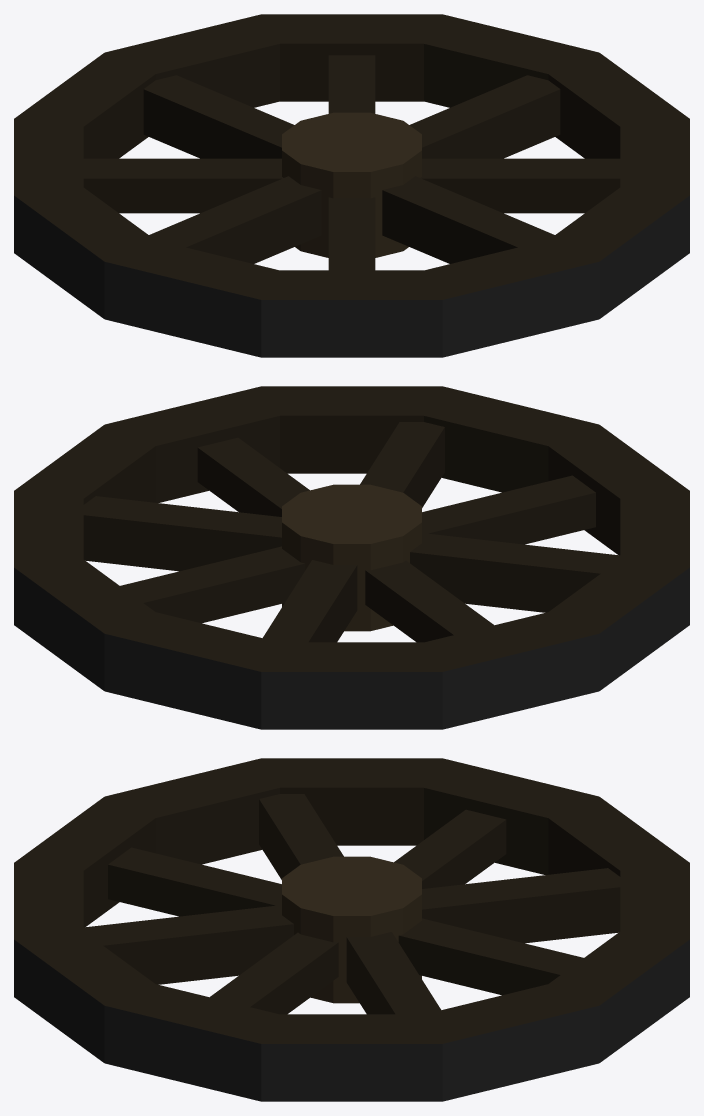
The model's file is lib_wagon_wheel_1.fbx.
The picture shows the model from 3 angles, top to bottom: view 1: azimuth 30°, elevation 25°; view 2: azimuth 150°, elevation 25°; view 3: azimuth 270°, elevation 25°; orthographic projection.
Parts seen in each view (by area): view 1: lib_wagon_wheel__1_; view 2: lib_wagon_wheel__1_; view 3: lib_wagon_wheel__1_.
Boxes of the visible parts, left/top/right/bottom form: lib_wagon_wheel__1_: left=14, top=14, right=689, bottom=357; lib_wagon_wheel__1_: left=14, top=386, right=689, bottom=729; lib_wagon_wheel__1_: left=14, top=758, right=689, bottom=1101.
Size of the model in its own units: 152 by 21.59 by 152.
